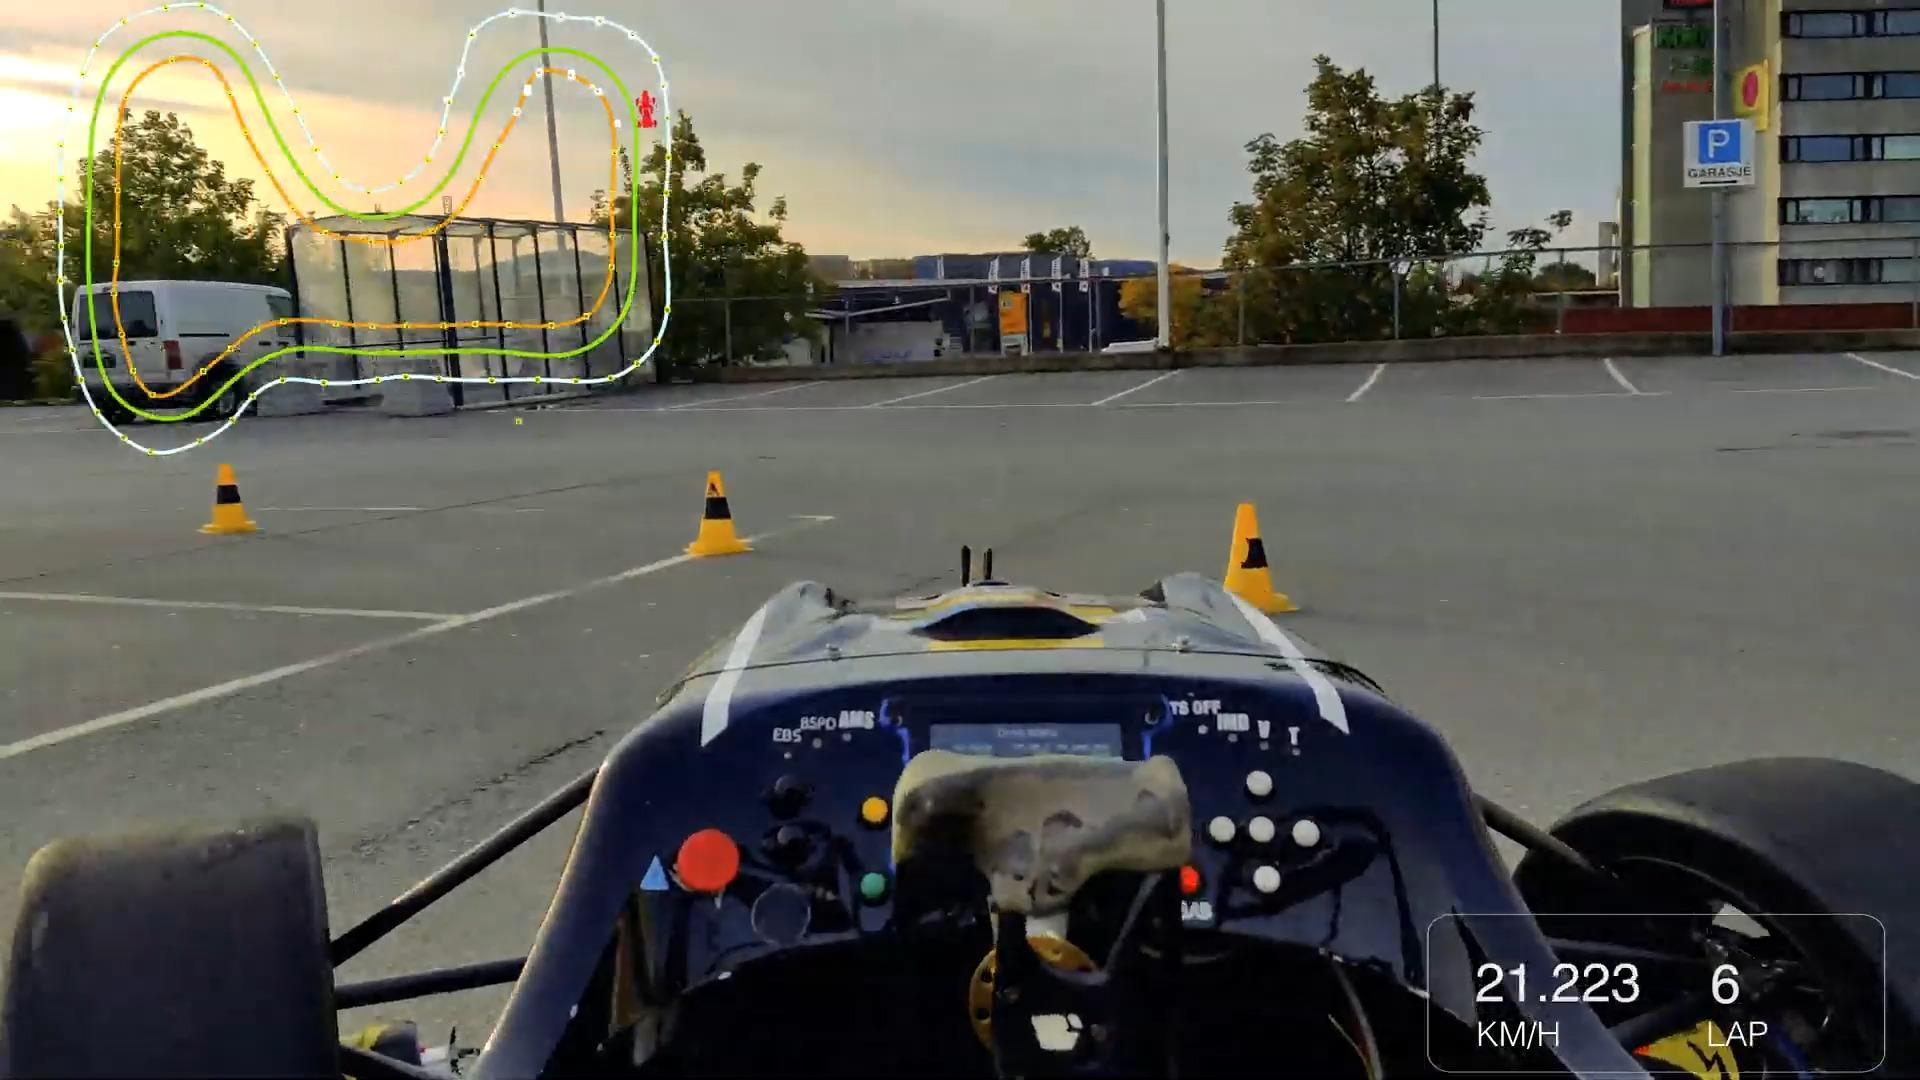yellow_cone: (1201, 501, 1294, 612), (688, 472, 745, 555), (204, 462, 257, 535)
